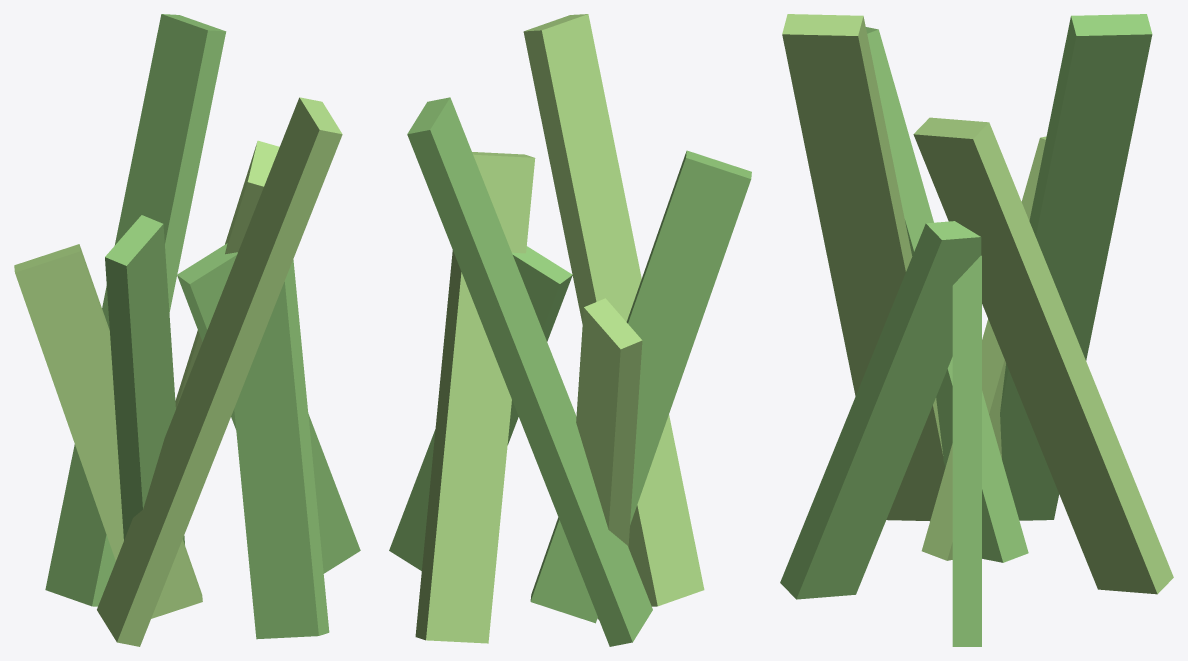
Rendered from grass_tuft.fbx.
3 views of the same model, side by side, from view 1: azimuth 30°, elevation 25°; view 2: azimuth 150°, elevation 25°; view 3: azimuth 270°, elevation 25° (orthographic). The views are drawn at different scales.
Parts seen in each view (by area): view 1: Visual; view 2: Visual; view 3: Visual.
Boxes of the visible parts, bbox=[...] form: Visual: bbox=[14, 14, 360, 646]; Visual: bbox=[389, 14, 751, 646]; Visual: bbox=[780, 14, 1173, 646].
Bounding box in the file's own units: 40.62 × 67.82 × 40.31.
